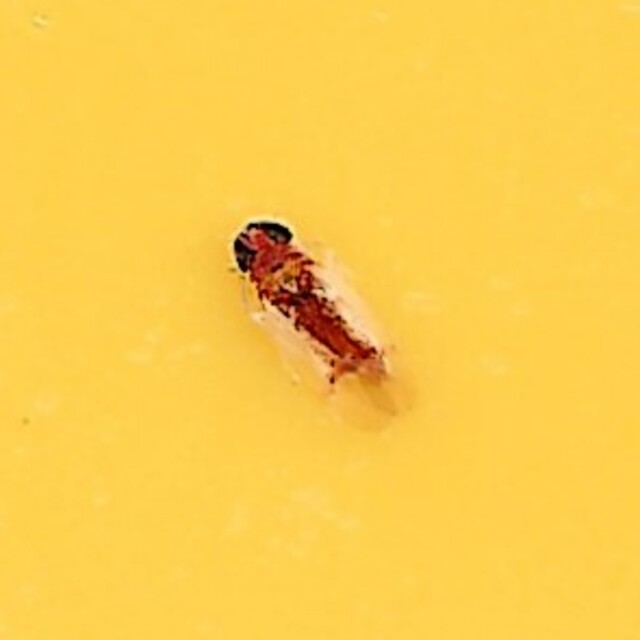Hemiptera: (217, 205, 423, 435)
